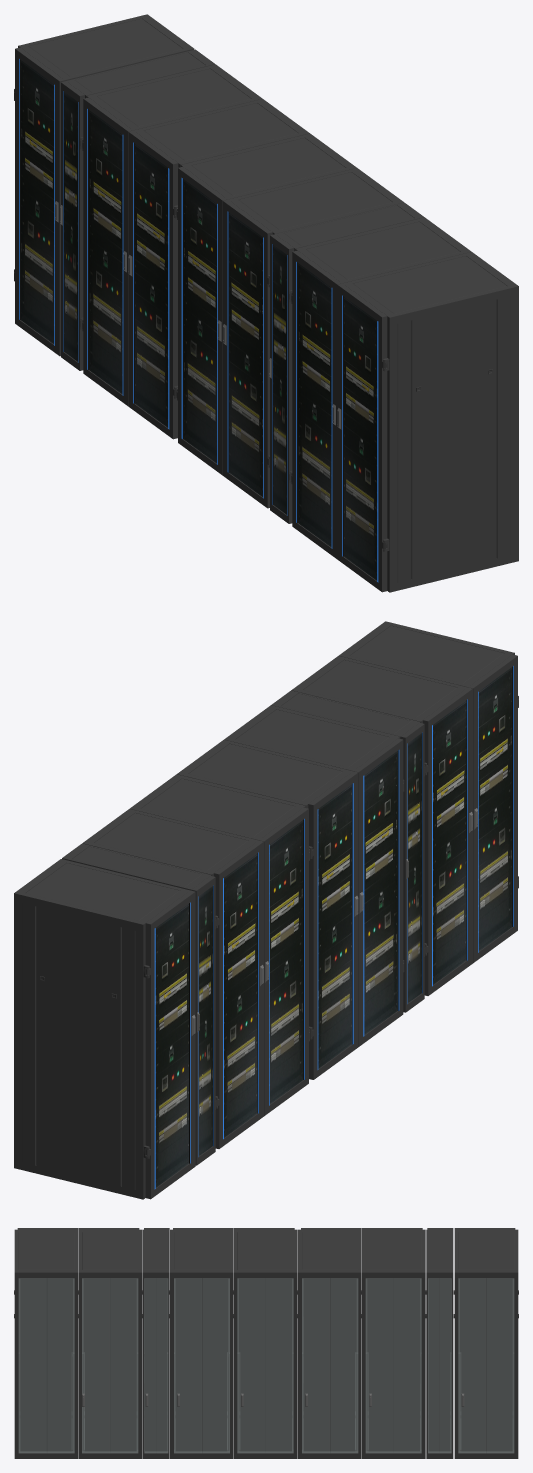
The model's file is 服务器主机箱.FBX.
3 views of the same model, one above another, from view 1: azimuth 30°, elevation 25°; view 2: azimuth 150°, elevation 25°; view 3: azimuth 270°, elevation 25° (orthographic). The views are drawn at different scales.
Visible parts, largest first — view 1: Obj3d66-1141766-1060-163, Obj3d66-1141766-1069-548, Obj3d66-1141766-1083-68, Obj3d66-1141766-1062-437, Obj3d66-1141766-1111-361, Obj3d66-1141766-1077-758, Obj3d66-1141766-1097-743, Obj3d66-1141766-1102-955, Obj3d66-1141766-1070-872, Obj3d66-1141766-1104-394, Obj3d66-1141766-1112-380, Obj3d66-1141766-1099-253 (+23 smaller); view 2: Obj3d66-1141766-1070-872, Obj3d66-1141766-1102-955, Obj3d66-1141766-1062-437, Obj3d66-1141766-1083-68, Obj3d66-1141766-1069-548, Obj3d66-1141766-1097-743, Obj3d66-1141766-1111-361, Obj3d66-1141766-1077-758, Obj3d66-1141766-1112-380, Obj3d66-1141766-1085-403, Obj3d66-1141766-1099-253, Obj3d66-1141766-1104-394 (+22 smaller); view 3: Obj3d66-1141766-1060-163, Obj3d66-1141766-1070-872, Obj3d66-1141766-1099-253, Obj3d66-1141766-1112-380, Obj3d66-1141766-1104-394, Obj3d66-1141766-1074-609, Obj3d66-1141766-1085-403, Obj3d66-1141766-1051-373, Obj3d66-1141766-1093-172, Obj3d66-1141766-1065-969, Obj3d66-1141766-1079-529, Obj3d66-1141766-1072-150 (+12 smaller).
Boxes of the visible parts, left/top/right/bottom form: Obj3d66-1141766-1060-163: left=343, top=252, right=518, bottom=592; Obj3d66-1141766-1069-548: left=20, top=60, right=54, bottom=344; Obj3d66-1141766-1083-68: left=183, top=179, right=216, bottom=463; Obj3d66-1141766-1062-437: left=344, top=297, right=377, bottom=580; Obj3d66-1141766-1111-361: left=89, top=110, right=122, bottom=394; Obj3d66-1141766-1077-758: left=229, top=213, right=262, bottom=496; Obj3d66-1141766-1097-743: left=298, top=263, right=331, bottom=547; Obj3d66-1141766-1102-955: left=135, top=144, right=168, bottom=427; Obj3d66-1141766-1070-872: left=18, top=14, right=194, bottom=81; Obj3d66-1141766-1104-394: left=134, top=99, right=309, bottom=167; Obj3d66-1141766-1112-380: left=86, top=64, right=262, bottom=130; Obj3d66-1141766-1099-253: left=295, top=217, right=471, bottom=283; Obj3d66-1141766-1070-872: left=14, top=859, right=189, bottom=1199; Obj3d66-1141766-1102-955: left=269, top=820, right=303, bottom=1104; Obj3d66-1141766-1062-437: left=478, top=667, right=512, bottom=951; Obj3d66-1141766-1083-68: left=318, top=784, right=351, bottom=1068; Obj3d66-1141766-1069-548: left=155, top=904, right=188, bottom=1187; Obj3d66-1141766-1097-743: left=433, top=700, right=466, bottom=984; Obj3d66-1141766-1111-361: left=224, top=853, right=257, bottom=1137; Obj3d66-1141766-1077-758: left=364, top=751, right=397, bottom=1034; Obj3d66-1141766-1112-380: left=82, top=809, right=258, bottom=876; Obj3d66-1141766-1085-403: left=177, top=740, right=352, bottom=808; Obj3d66-1141766-1099-253: left=291, top=656, right=467, bottom=723; Obj3d66-1141766-1104-394: left=129, top=774, right=305, bottom=840; Obj3d66-1141766-1060-163: left=14, top=1229, right=78, bottom=1458; Obj3d66-1141766-1070-872: left=454, top=1229, right=518, bottom=1458; Obj3d66-1141766-1099-253: left=78, top=1229, right=142, bottom=1458; Obj3d66-1141766-1112-380: left=361, top=1229, right=426, bottom=1458; Obj3d66-1141766-1104-394: left=297, top=1229, right=361, bottom=1458; Obj3d66-1141766-1074-609: left=169, top=1229, right=233, bottom=1458; Obj3d66-1141766-1085-403: left=233, top=1229, right=297, bottom=1458; Obj3d66-1141766-1051-373: left=20, top=1278, right=71, bottom=1451; Obj3d66-1141766-1093-172: left=85, top=1278, right=136, bottom=1451; Obj3d66-1141766-1065-969: left=461, top=1278, right=512, bottom=1451; Obj3d66-1141766-1079-529: left=240, top=1278, right=291, bottom=1451; Obj3d66-1141766-1072-150: left=175, top=1278, right=226, bottom=1451.
Size of the model in its own units: 1169 by 2228 by 5470.
6 materials, 1 textured.
